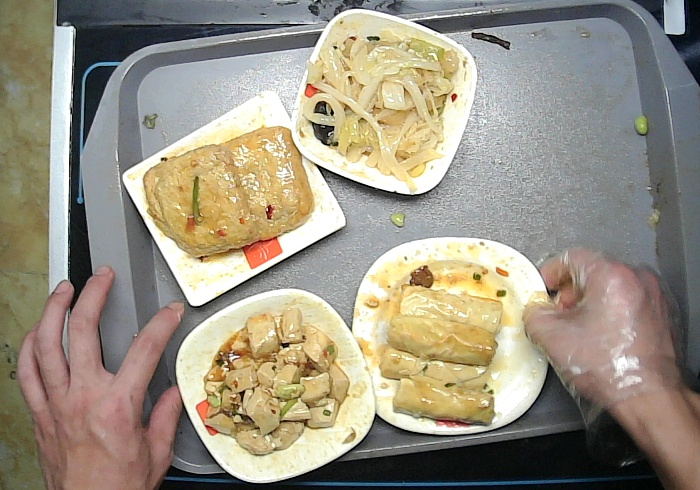SHKJ-Bai_Se_Cai_Die: (173, 287, 376, 485)
SHKJ-Bai_Se_Si_Fang_Cai_Die: (346, 235, 552, 436)
SHKJ-Bai_Se_Xiao_Fang_Die: (288, 9, 478, 197)
SHKJ-Si_Fang_Min: (122, 90, 347, 308)
